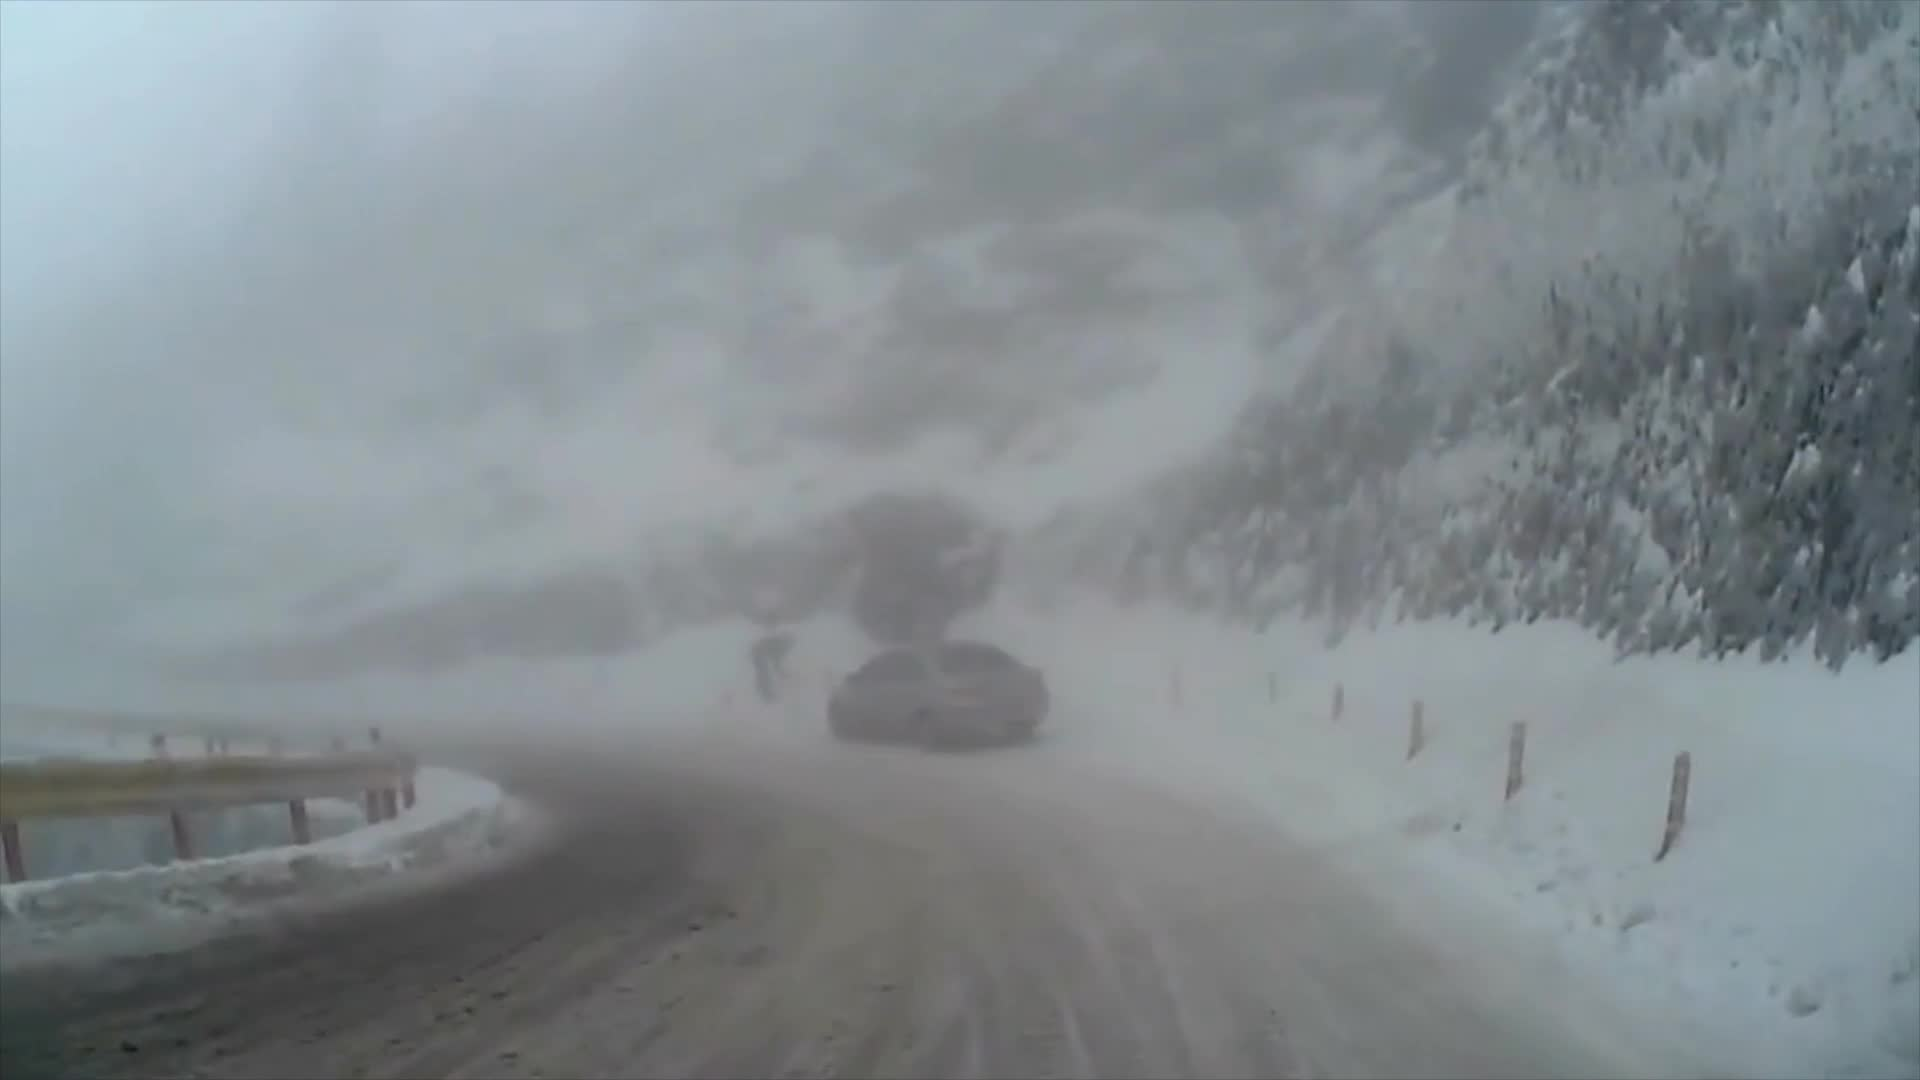pedestrian: (753, 635, 797, 703)
vehicle: (827, 644, 1049, 758)
